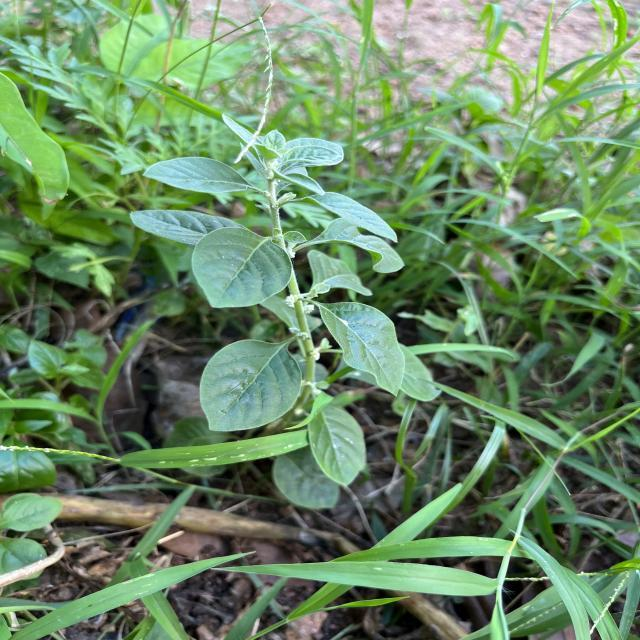Aerva lanata: (196, 336, 304, 434), (311, 298, 407, 399), (190, 225, 294, 312), (294, 190, 400, 244), (138, 154, 250, 196)
